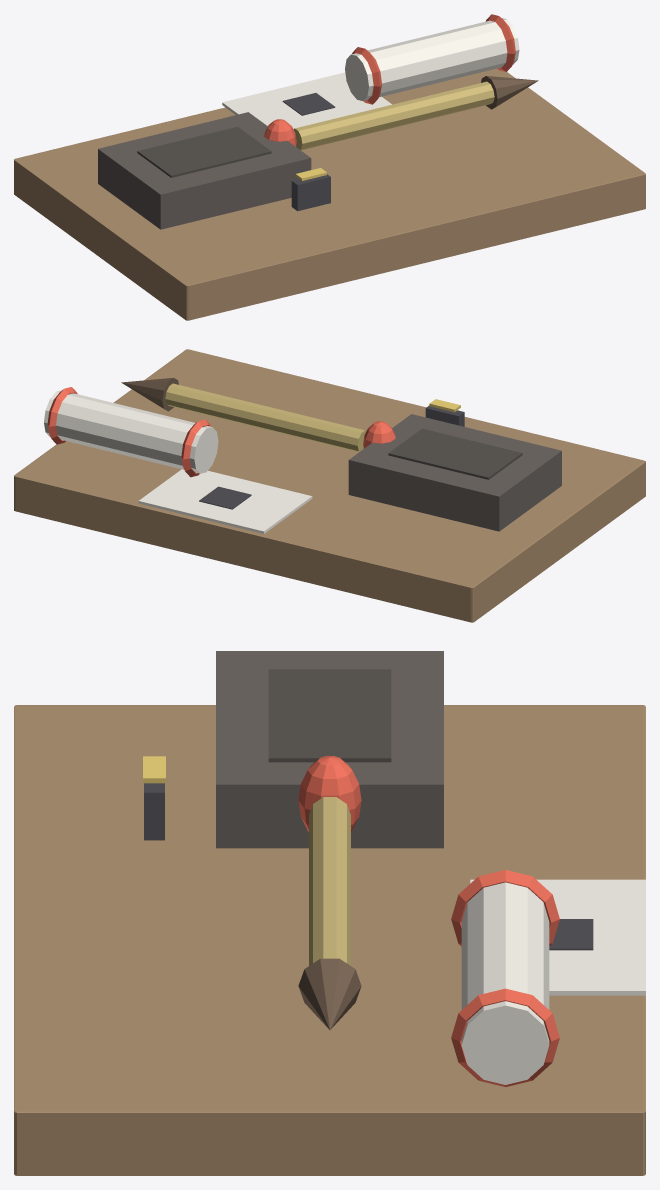
The model's file is calligraphy_set.glb.
The picture shows the model from 3 angles, top to bottom: view 1: azimuth 30°, elevation 25°; view 2: azimuth 150°, elevation 25°; view 3: azimuth 270°, elevation 25°; orthographic projection. The views are drawn at different scales.
Parts seen in each view (by area): view 1: calligraphy_set; view 2: calligraphy_set; view 3: calligraphy_set.
Part boxes in pixels (bbox=[...]): calligraphy_set: bbox=[14, 14, 645, 320]; calligraphy_set: bbox=[14, 349, 645, 622]; calligraphy_set: bbox=[14, 651, 645, 1175].
Size of the model in its own units: 0.55 by 0.111 by 0.36.
